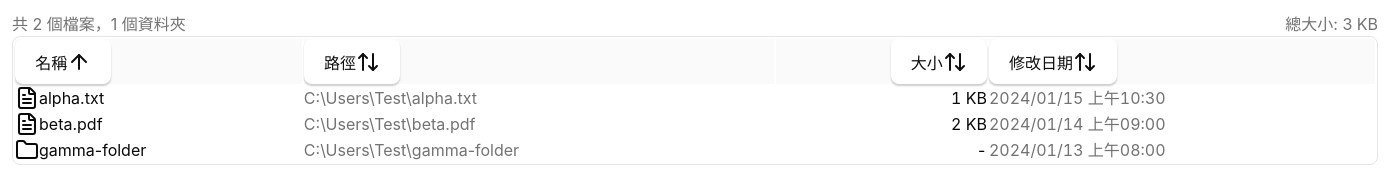
Test: FileTable › sorting behavior › should reset to ascending when changing sort field
The image size is (1390, 182).
Sort by name descending
Click the button "名稱".
click(63, 62)  # box x1=15 y1=39 x2=111 y2=84
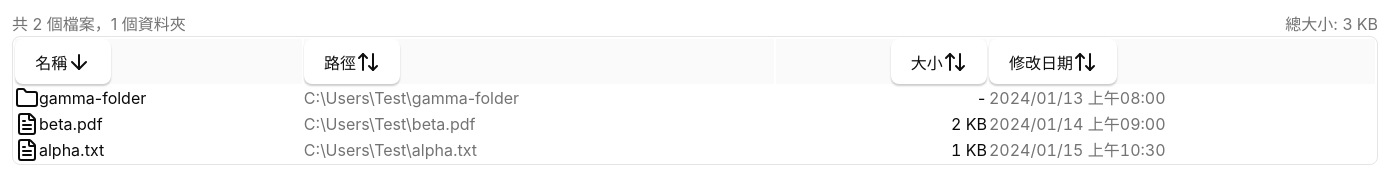
Click the button "名稱".
click(63, 62)  # box x1=15 y1=39 x2=111 y2=84
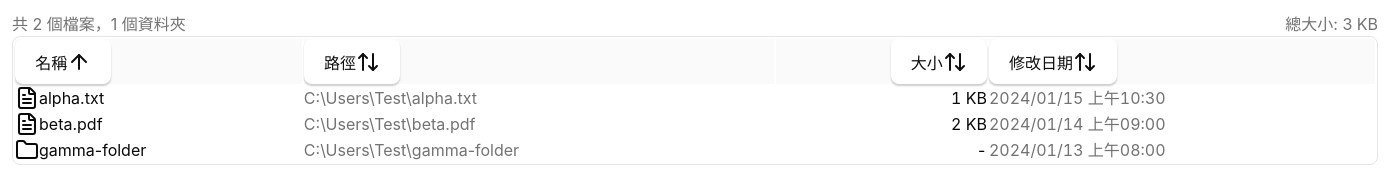
Change to size - should reset to ascending
Click the button "大小".
click(939, 62)  # box x1=890 y1=39 x2=987 y2=84
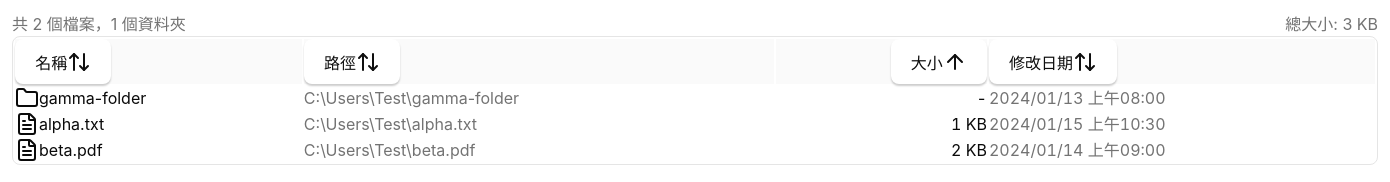
Expected: the button "大小" is shown, x1=890 y1=39 x2=987 y2=84
